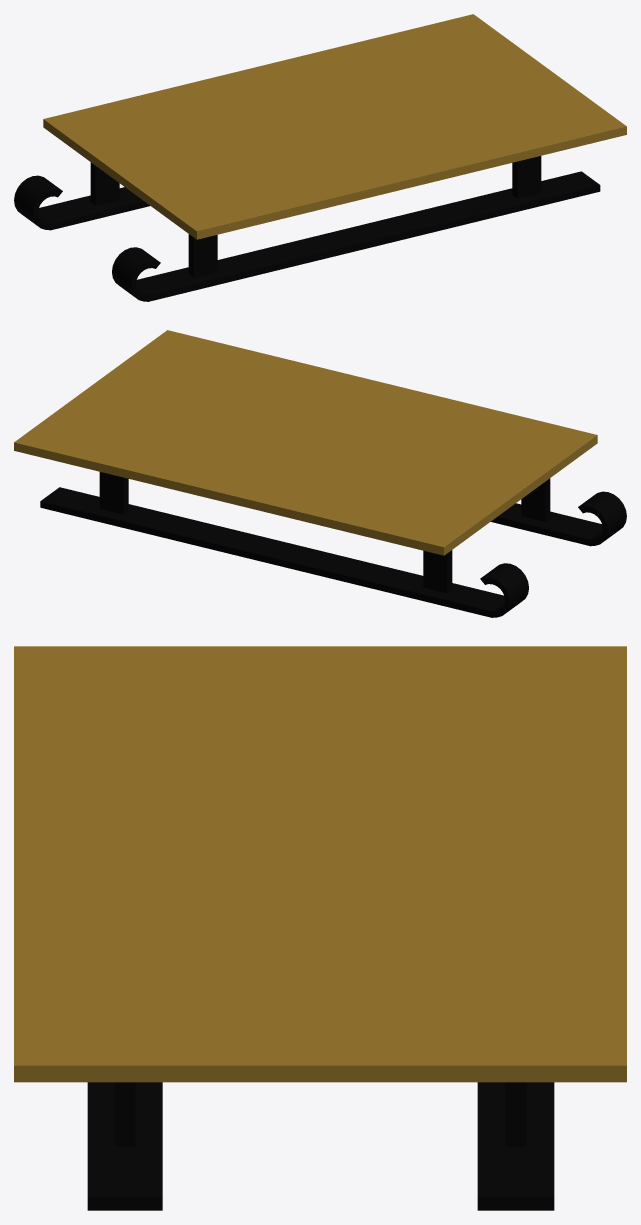
File: Sled Complete.fbx
3 renders of one model, top to bottom at view 1: azimuth 30°, elevation 25°; view 2: azimuth 150°, elevation 25°; view 3: azimuth 270°, elevation 25°, orthographic. The views are drawn at different scales.
Visible parts, largest first — view 1: pCube1, pCube6, pCube7, pPipe2, pPipe1, pCube2, pCube3, pCube5; view 2: pCube1, pCube7, pCube6, pPipe1, pPipe2, pCube5, pCube4, pCube2; view 3: pCube1, pCube7, pCube6, pCube3, pCube4.
Part boxes in pixels (x1=…): pCube1: x1=43, y1=14, x2=626, y2=239; pCube6: x1=136, y1=171, x2=600, y2=301; pCube7: x1=38, y1=187, x2=149, y2=230; pPipe2: x1=112, y1=247, x2=160, y2=301; pPipe1: x1=14, y1=175, x2=62, y2=230; pCube2: x1=188, y1=234, x2=217, y2=277; pCube3: x1=512, y1=156, x2=541, y2=198; pCube5: x1=90, y1=162, x2=119, y2=205; pCube1: x1=14, y1=330, x2=597, y2=555; pCube7: x1=40, y1=487, x2=504, y2=617; pCube6: x1=491, y1=503, x2=602, y2=545; pPipe1: x1=480, y1=563, x2=528, y2=617; pPipe2: x1=578, y1=491, x2=626, y2=546; pCube5: x1=423, y1=550, x2=452, y2=593; pCube4: x1=99, y1=472, x2=128, y2=514; pCube2: x1=521, y1=478, x2=550, y2=521; pCube1: x1=14, y1=646, x2=626, y2=1082; pCube7: x1=477, y1=1082, x2=554, y2=1210; pCube6: x1=87, y1=1082, x2=162, y2=1210; pCube3: x1=114, y1=1082, x2=135, y2=1146; pCube4: x1=505, y1=1082, x2=526, y2=1146.
Bounding box in the file's own units: 7.19 × 1.1 × 4.
